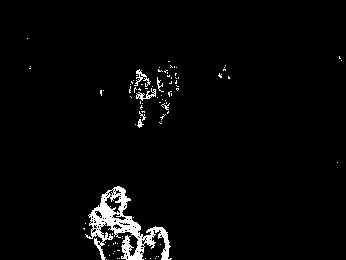person: (85, 183, 170, 260), (155, 59, 182, 128), (127, 67, 155, 129)
